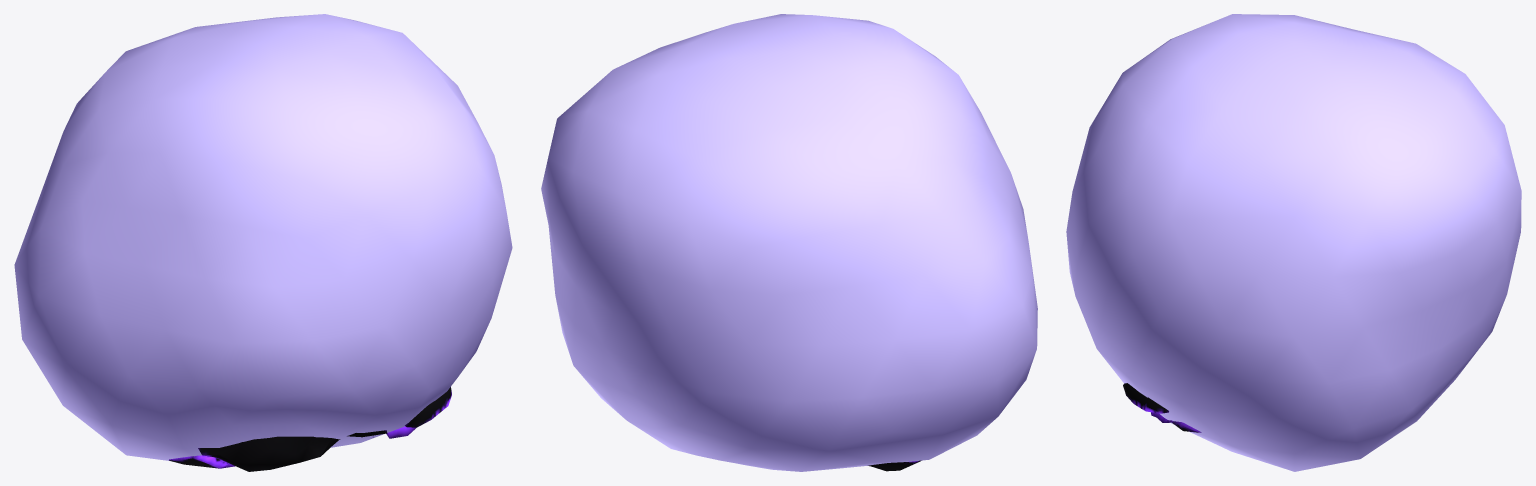
File: mineral_materia_oscura.fbx
3 views of the same model, side by side, from view 1: azimuth 30°, elevation 25°; view 2: azimuth 150°, elevation 25°; view 3: azimuth 270°, elevation 25° (orthographic). The views are drawn at different scales.
Visible parts, largest first — view 1: mineral_materia_oscura_cristal, mineral_materia_oscura; view 2: mineral_materia_oscura_cristal; view 3: mineral_materia_oscura_cristal, mineral_materia_oscura.
Boxes of the visible parts, left/top/right/bottom form: mineral_materia_oscura_cristal: left=14, top=14, right=512, bottom=460; mineral_materia_oscura: left=169, top=387, right=451, bottom=471; mineral_materia_oscura_cristal: left=541, top=14, right=1037, bottom=471; mineral_materia_oscura_cristal: left=1066, top=14, right=1521, bottom=471; mineral_materia_oscura: left=1123, top=383, right=1201, bottom=432.
Size of the model in its own units: 4.1 by 3.48 by 3.69.
3 materials, 3 textured.
